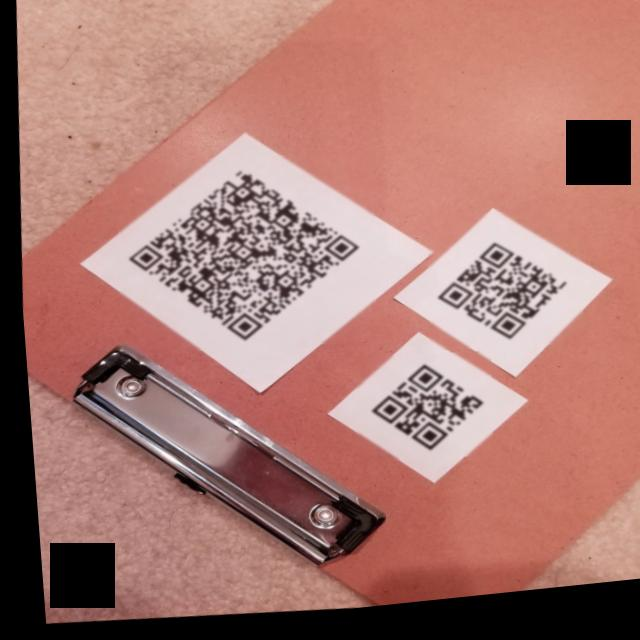QR_CODE: (104, 145, 381, 370), (416, 213, 583, 368), (344, 354, 490, 476)
